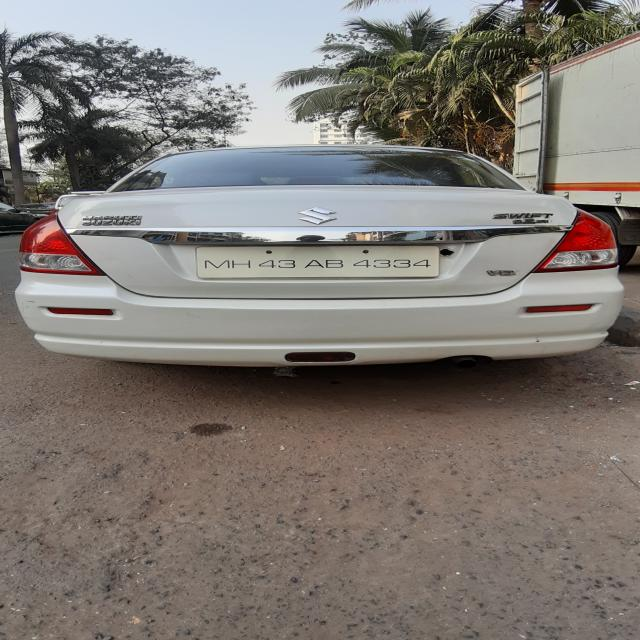Number-Plate: (199, 244, 442, 278)
